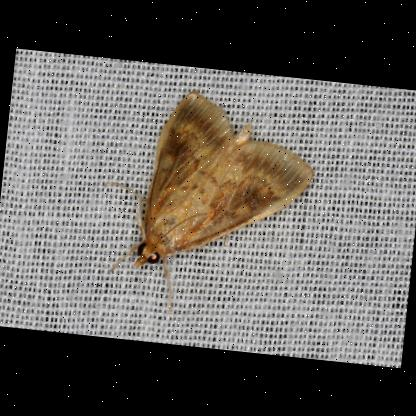Asian Corn Borer Moth: (89, 79, 322, 328)
